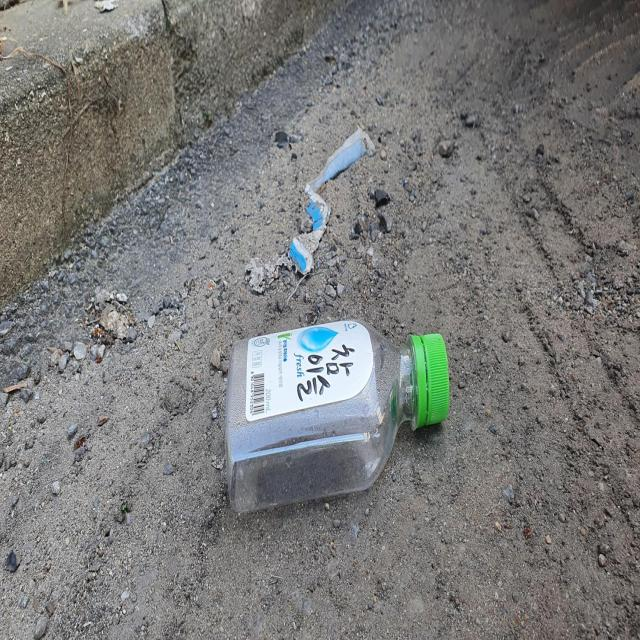plastic: (225, 319, 450, 512)
